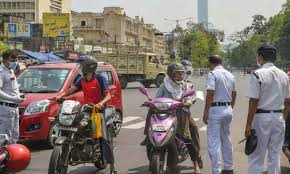mask: (168, 63, 186, 85), (76, 58, 97, 76), (253, 48, 269, 70), (205, 54, 220, 75), (3, 52, 19, 70), (182, 60, 195, 77)
